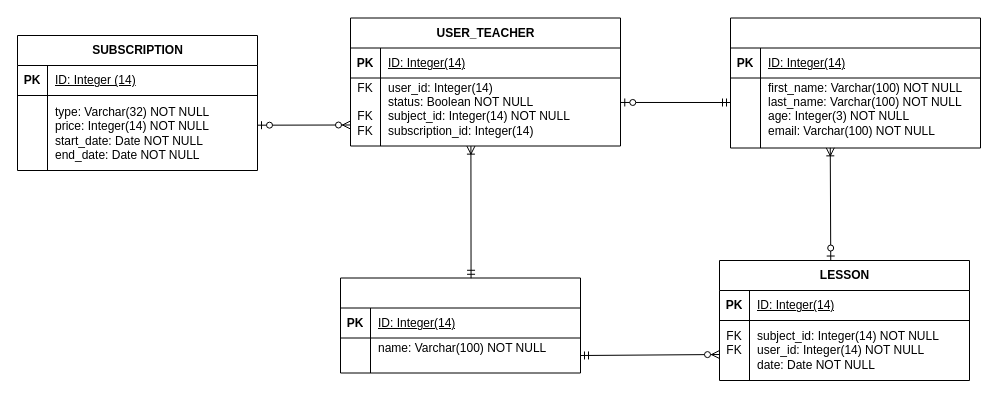
Image size: 998x398. Some labels were removed from this diagram. Each missing label, with the box of its shape:
SUBJECT: (340, 277, 580, 373)
USER: (730, 17, 980, 148)
